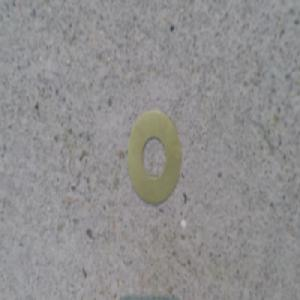Washer: (126, 108, 183, 209)
